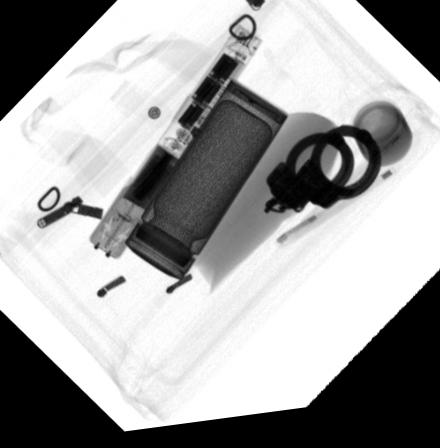Baton: (88, 28, 266, 263)
HandCuffs: (261, 132, 384, 222)
